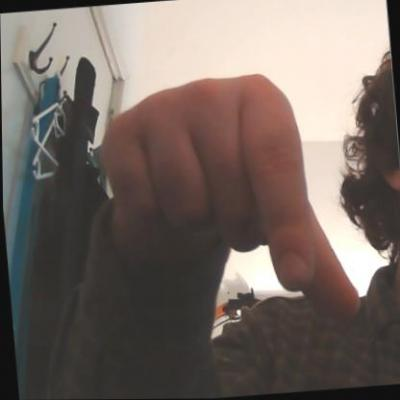hand: (96, 66, 364, 342)
